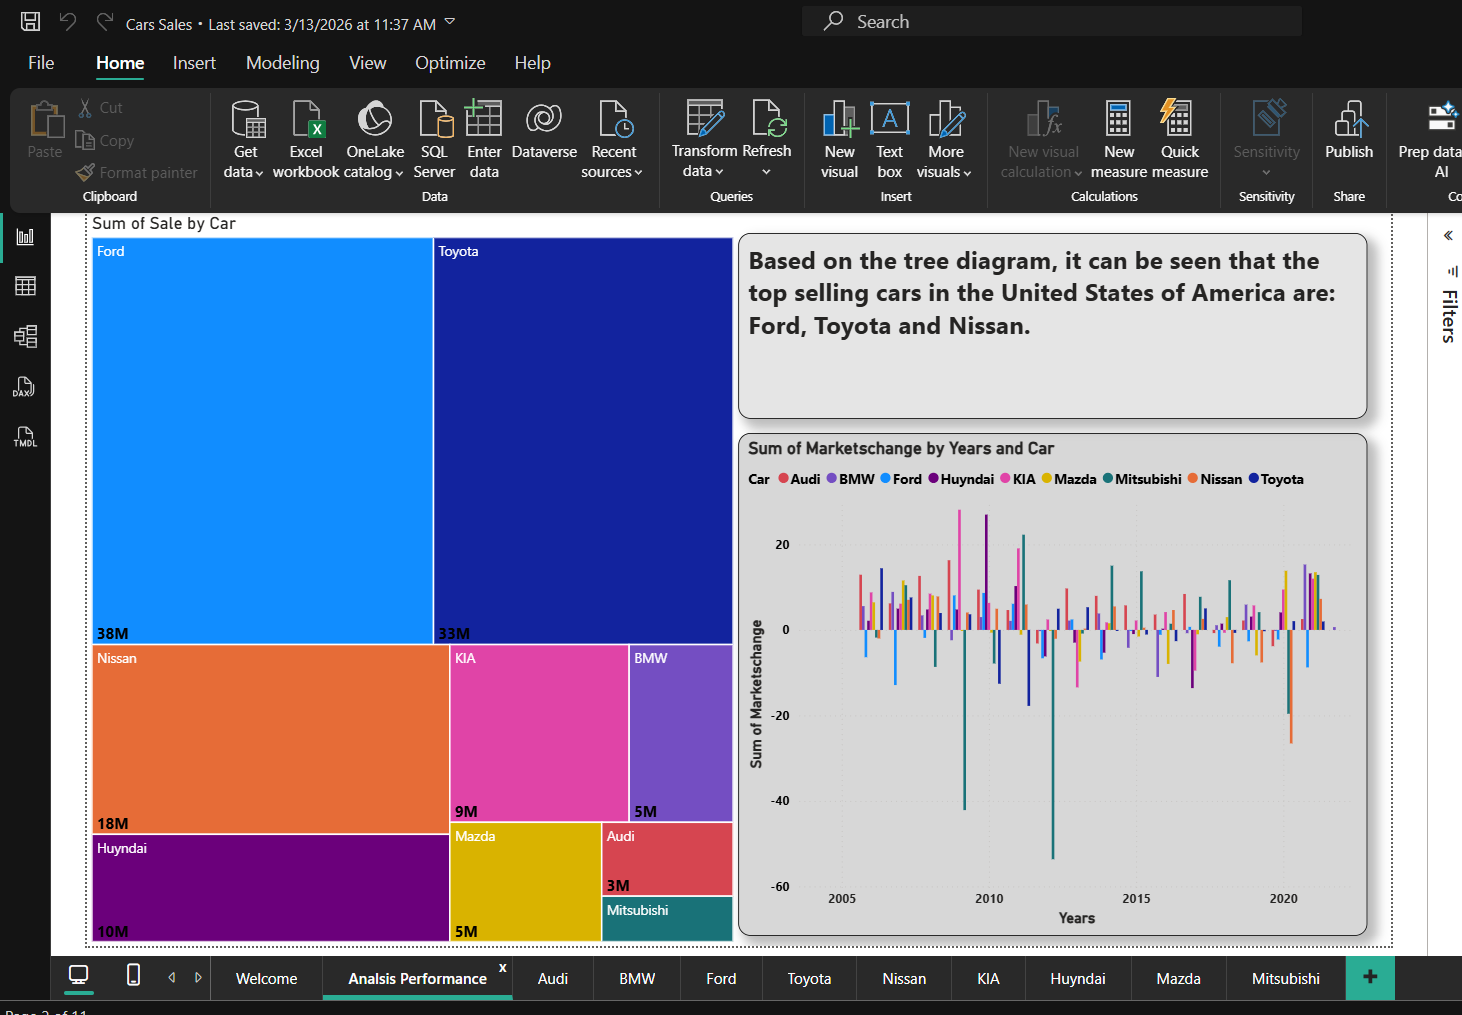

The page's visual inventory and layout, read from the dashboard file:
{"tool":"powerbi","page":{"name":"Analsis Performance","canvas":[1280,720],"ordinal":1},"visuals":[{"type":"treemap","fields":{"Group":["CAR SALES GLOBALY.Car"],"Values":["Sum(CAR SALES GLOBALY.Sale)"]},"box":[0,0,639.5,720.4],"z":0},{"type":"textbox","box":[639.5,19.2,617.5,182.5],"z":1000},{"type":"lineClusteredColumnComboChart","fields":{"Category":["CAR SALES GLOBALY.Years"],"Y":["Sum(CAR SALES GLOBALY.Marketschange)"],"Series":["CAR SALES GLOBALY.Car"]},"box":[639.5,215.4,617.5,494],"z":2000}]}

Visuals, with their boxes on the page's 1280x720 design canvas (x1, y1, x2, y2). These are canvas units, not pixel positions in the 1462x1015 screenshot, which may show the page scaled, cropped or inside an application window:
treemap - CAR SALES GLOBALY.Car x Sum(CAR SALES GLOBALY.Sale): BBox(0, 0, 640, 720)
textbox: BBox(640, 19, 1257, 202)
lineClusteredColumnComboChart - CAR SALES GLOBALY.Years x Sum(CAR SALES GLOBALY.Marketschange): BBox(640, 215, 1257, 709)
